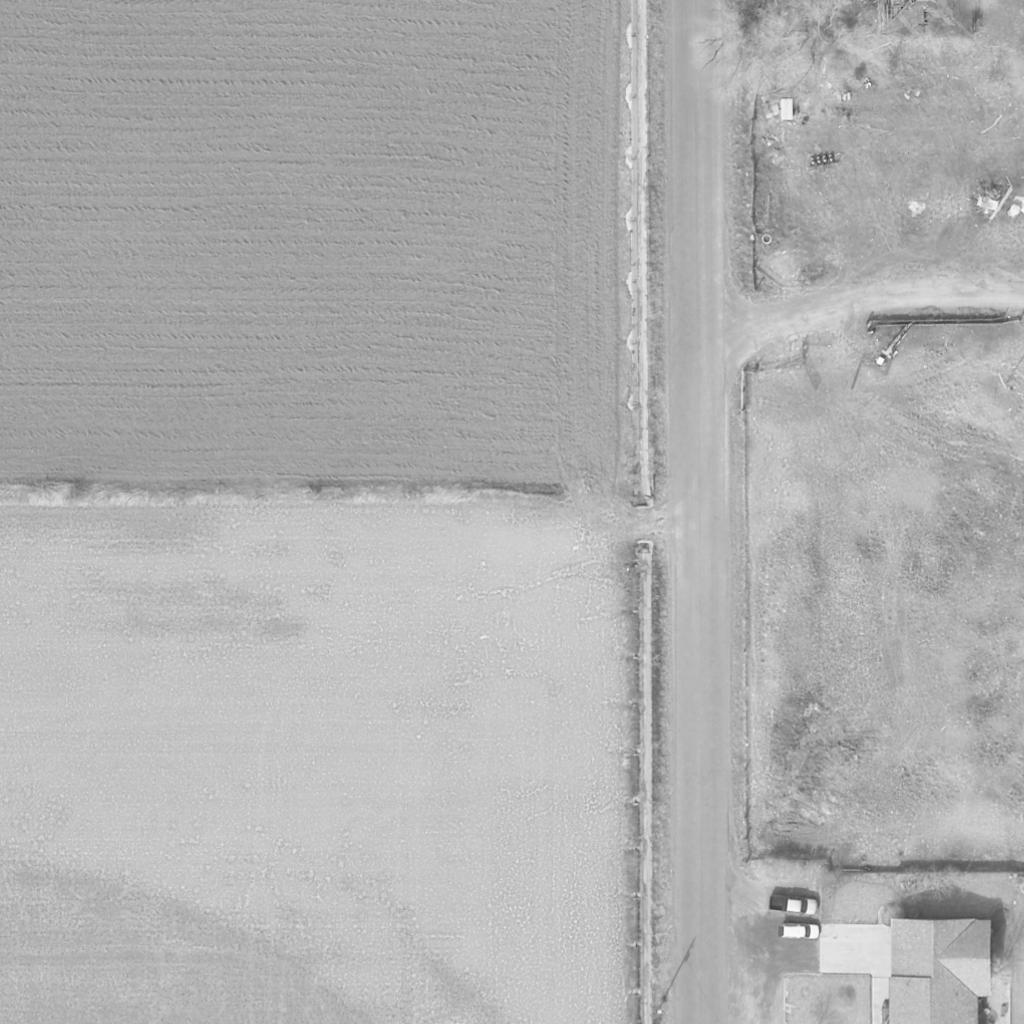vehicle: (769, 895, 819, 915), (778, 924, 820, 940)
